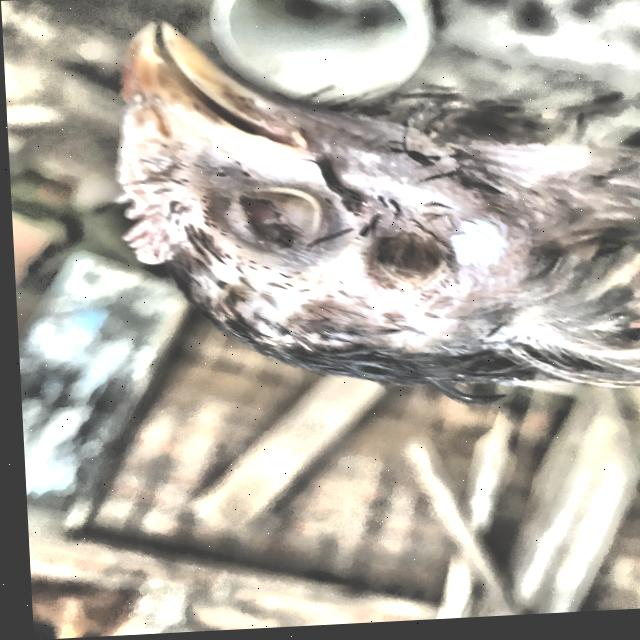Coryza: (68, 0, 640, 418)
